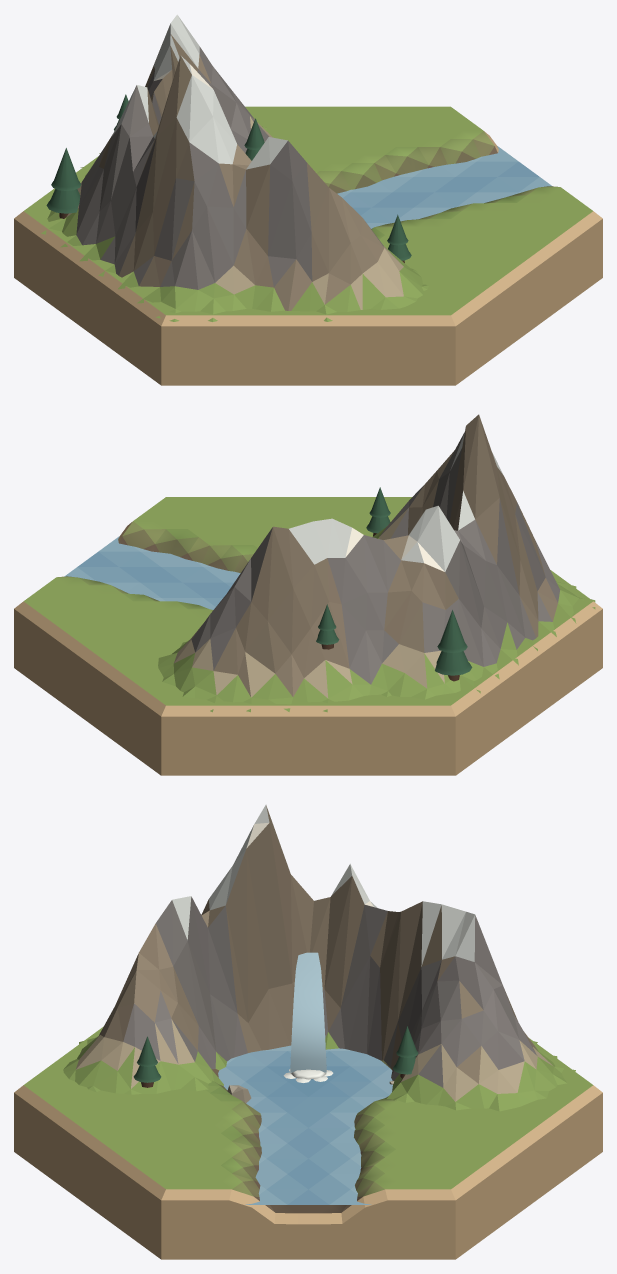
File: river_source_1.fbx
3 views of the same model, one above another, from view 1: azimuth 30°, elevation 25°; view 2: azimuth 150°, elevation 25°; view 3: azimuth 270°, elevation 25° (orthographic).
Visible parts, largest first — view 1: river_source_1; view 2: river_source_1; view 3: river_source_1.
Boxes of the visible parts, x1,y1,x2,y2 form: river_source_1: [14, 14, 602, 385]; river_source_1: [14, 414, 602, 775]; river_source_1: [14, 805, 602, 1259].
Size of the model in its own units: 1.73 by 1.03 by 2.
